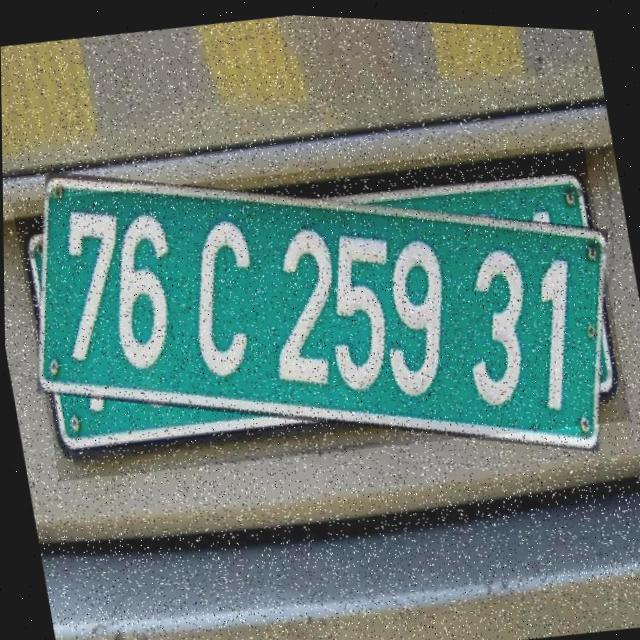LicensePlate: (10, 112, 632, 505)
